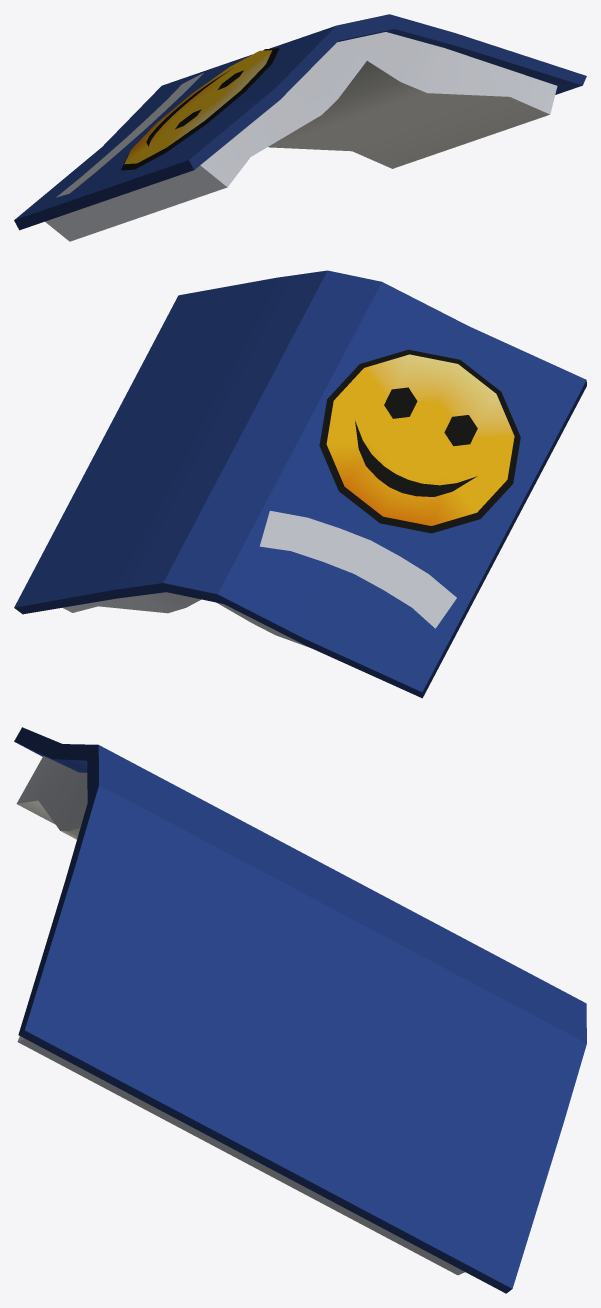
The model's file is hat_facebook.glb.
3 views of the same model, one above another, from view 1: azimuth 30°, elevation 25°; view 2: azimuth 150°, elevation 25°; view 3: azimuth 270°, elevation 25° (orthographic). The views are drawn at different scales.
Visible parts, largest first — view 1: hat_facebook; view 2: hat_facebook; view 3: hat_facebook.
Boxes of the visible parts, x1,y1,x2,y2 form: hat_facebook: [14, 14, 586, 241]; hat_facebook: [14, 270, 586, 698]; hat_facebook: [14, 727, 586, 1293].
Size of the model in its own units: 0.4247 by 0.2777 by 0.3574.
